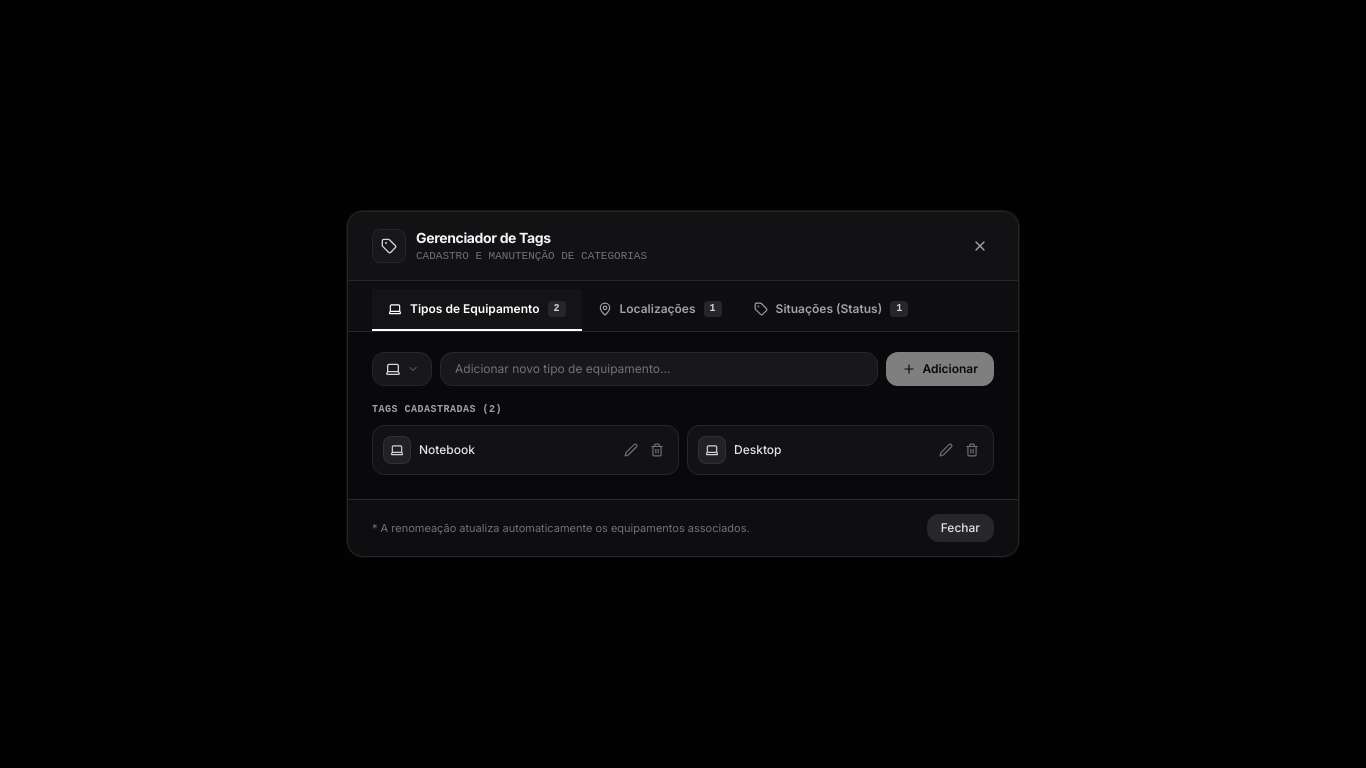
Test case: Componente ManageTagsModal › Permite abrir o seletor de ícones, buscar e selecionar um ícone customizado
The image size is (1366, 768).
Expected: the text "Notebook" is shown, x1=419 y1=442 x2=475 y2=458
Note: Abre o popover do seletor de ícone
Step 1. Click the button with test id "icon-picker-btn" → (402, 369), box x1=372 y1=352 x2=432 y2=386
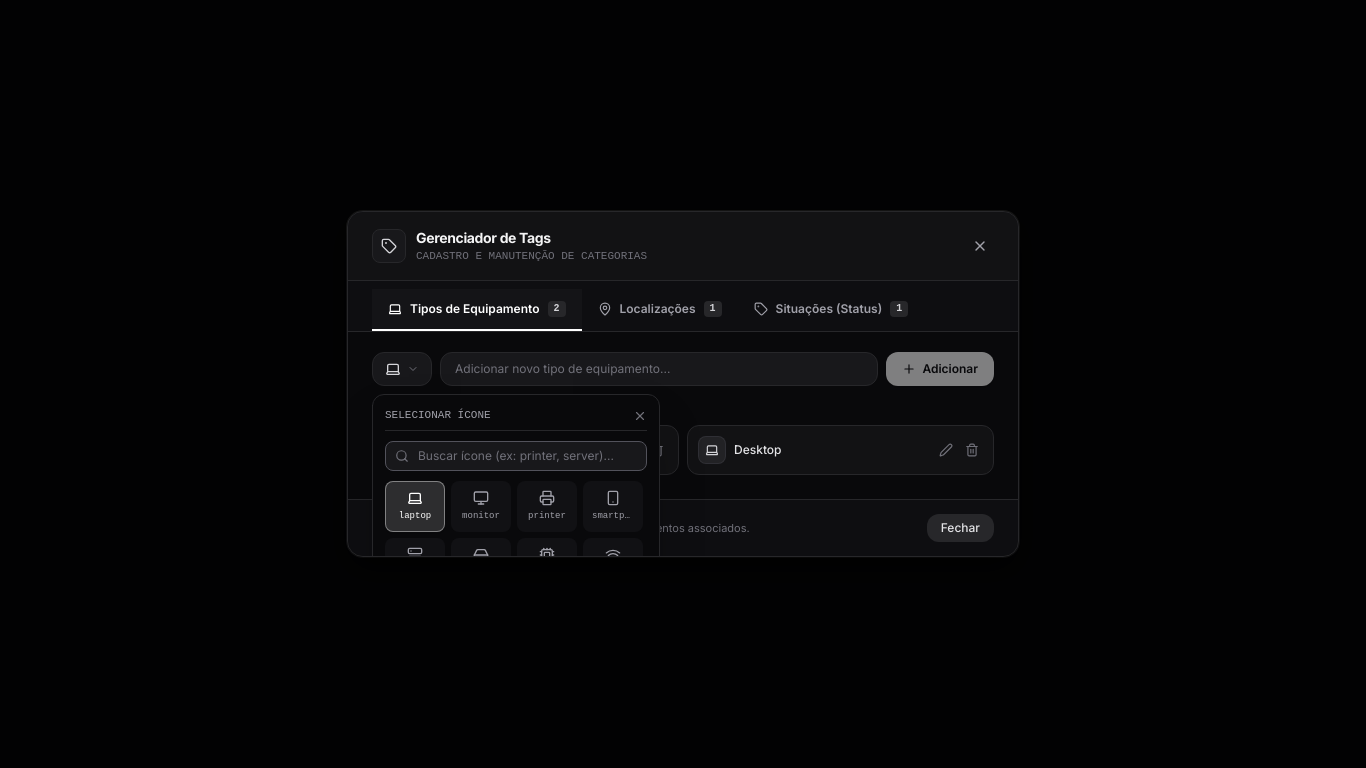
Note: Filtra pelo campo de busca
Step 2. Type "printer" into the field with test id "icon-search-input" → (516, 456), box x1=385 y1=441 x2=647 y2=471
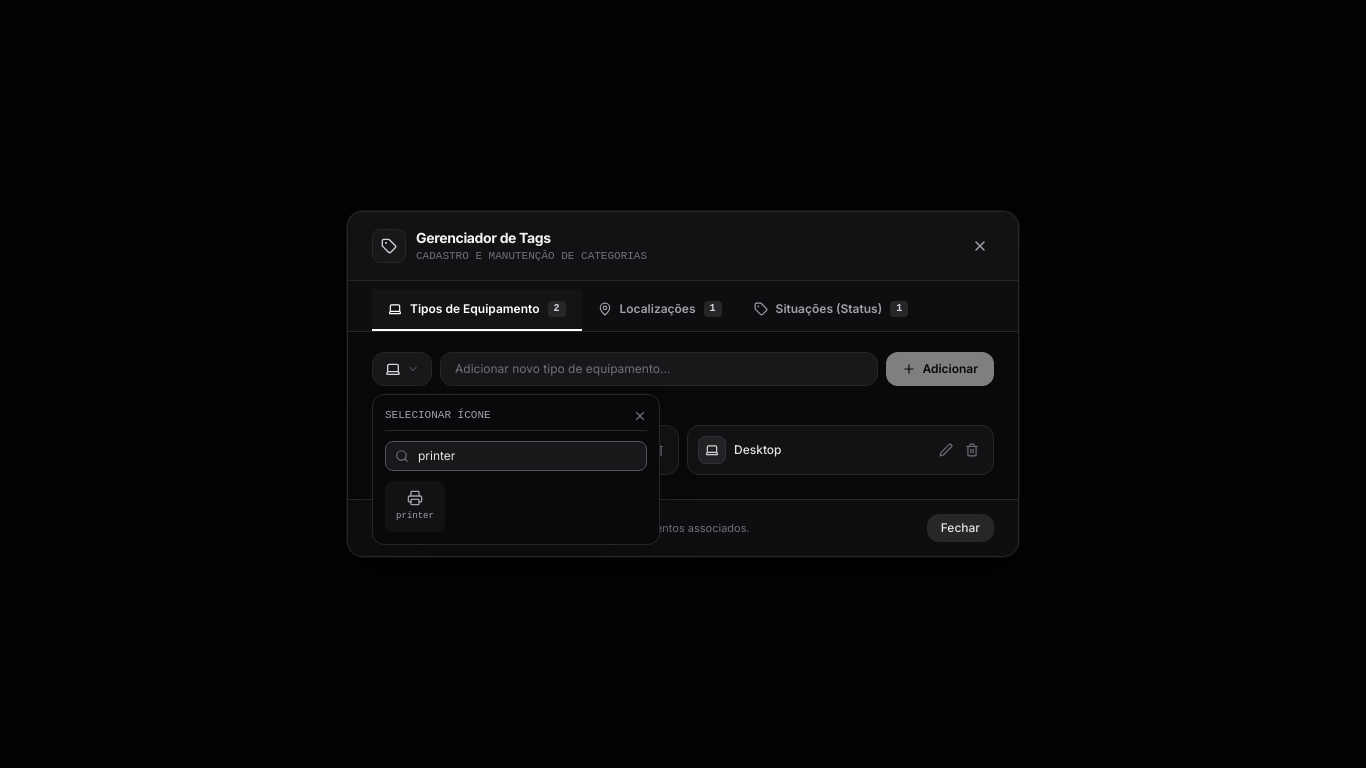
Step 3. Click the button with test id "select-icon-printer" → (415, 507), box x1=385 y1=481 x2=445 y2=532
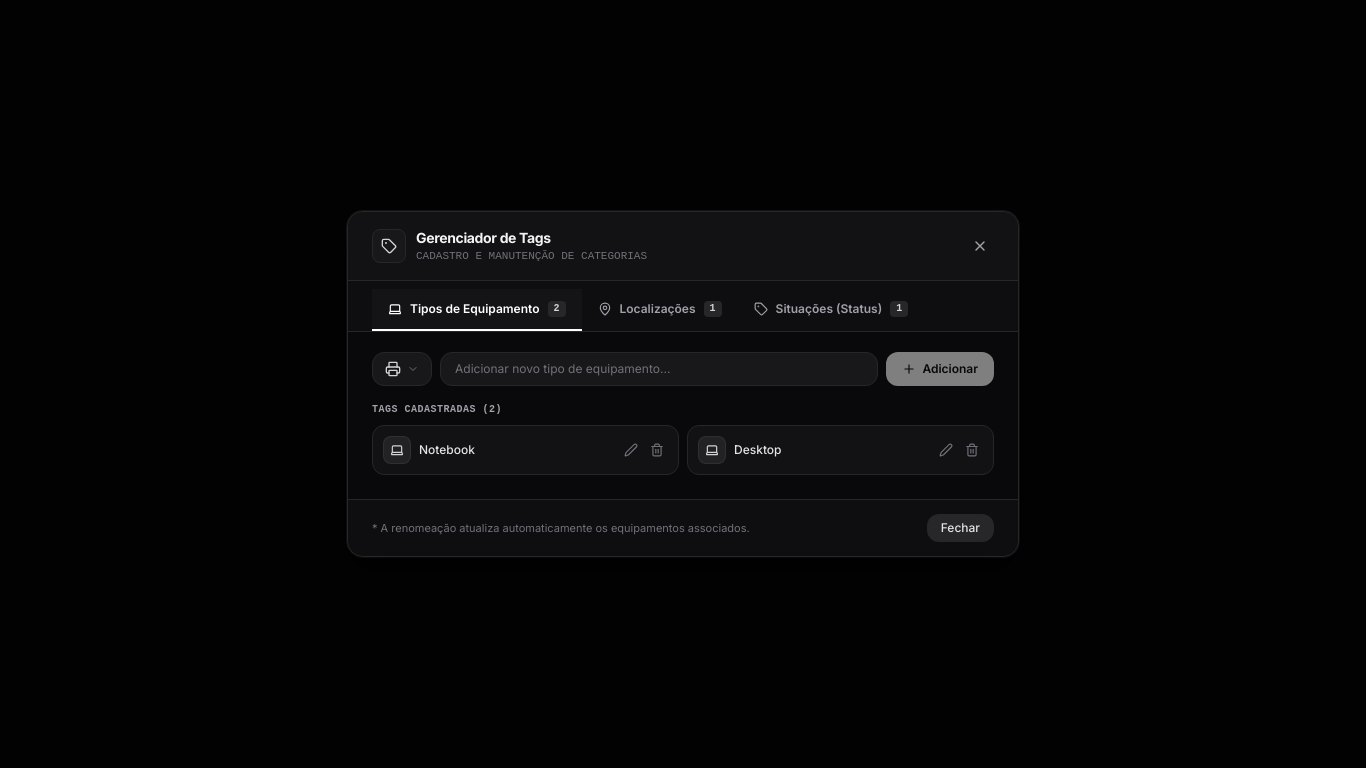
Result: the element with test id "icon-picker-popover" is gone
